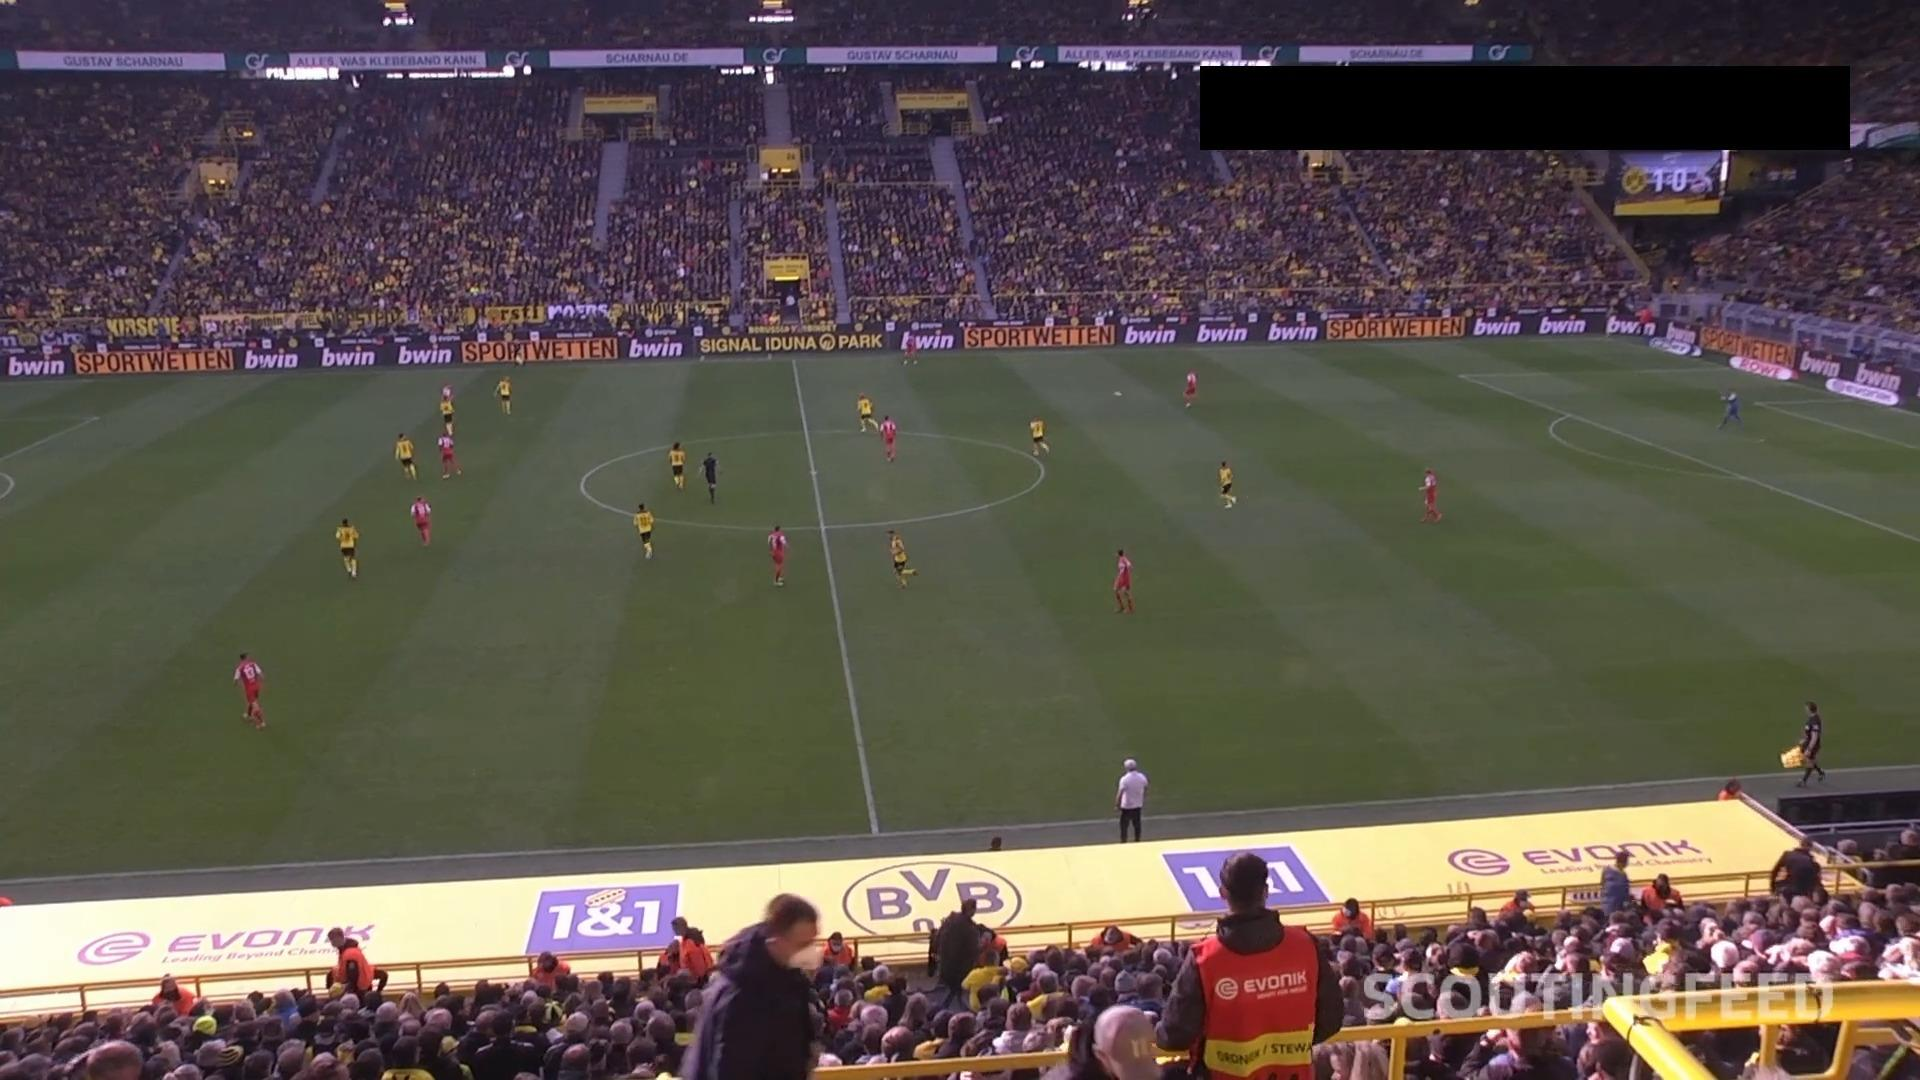ball: (1112, 390, 1124, 398)
